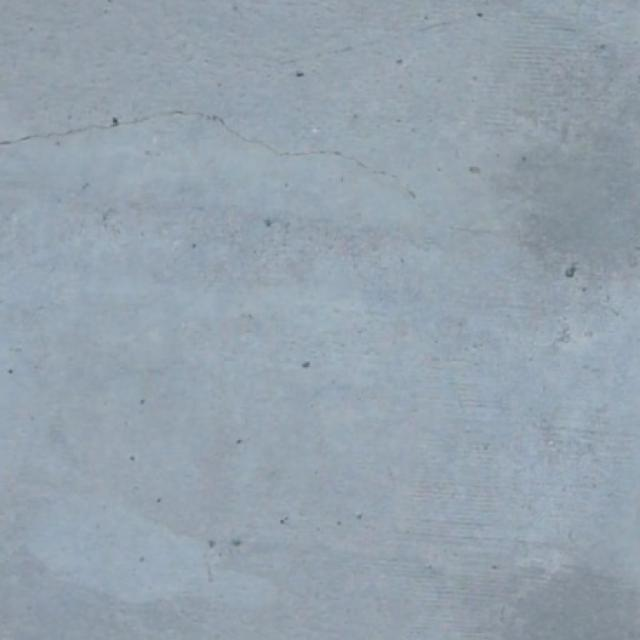Horizontal Crack: (0, 107, 522, 242)
